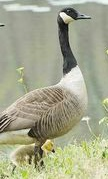goose: (1, 7, 98, 168)
